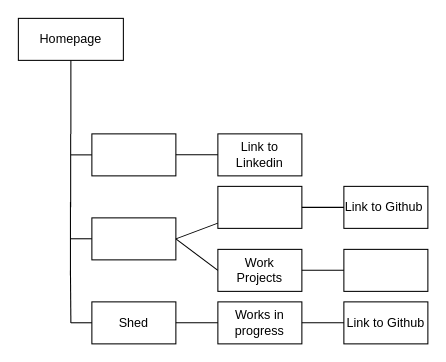
This 446x362 diagram has some shape labels left out. Here are the shapes that lost their labels. From the top down, the centre of each, then its label:
At point 133,154: "Resume".
At point 259,206: "Personal Projects".
At point 133,238: "Projects".
At point 385,269: "Link to Job".
